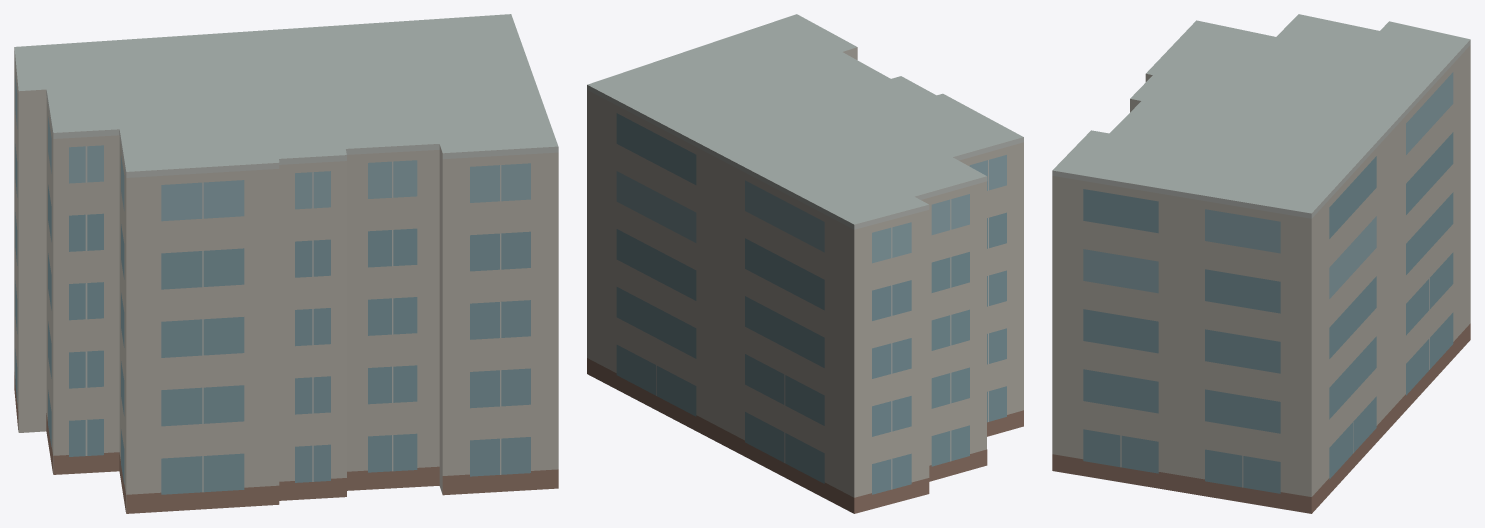
The model's file is survey-upis-32681464.glb.
The picture shows the model from 3 angles, left to right: view 1: azimuth 30°, elevation 25°; view 2: azimuth 150°, elevation 25°; view 3: azimuth 270°, elevation 25°; orthographic projection. The views are drawn at different scales.
Parts seen in each view (by area): view 1: survey-upis-32681464.tmp; view 2: survey-upis-32681464.tmp; view 3: survey-upis-32681464.tmp.
Part boxes in pixels (bbox=[...]): survey-upis-32681464.tmp: bbox=[14, 14, 558, 513]; survey-upis-32681464.tmp: bbox=[587, 14, 1023, 513]; survey-upis-32681464.tmp: bbox=[1052, 14, 1470, 513].
Bounding box in the file's own units: 19.68 × 13.81 × 17.44.
